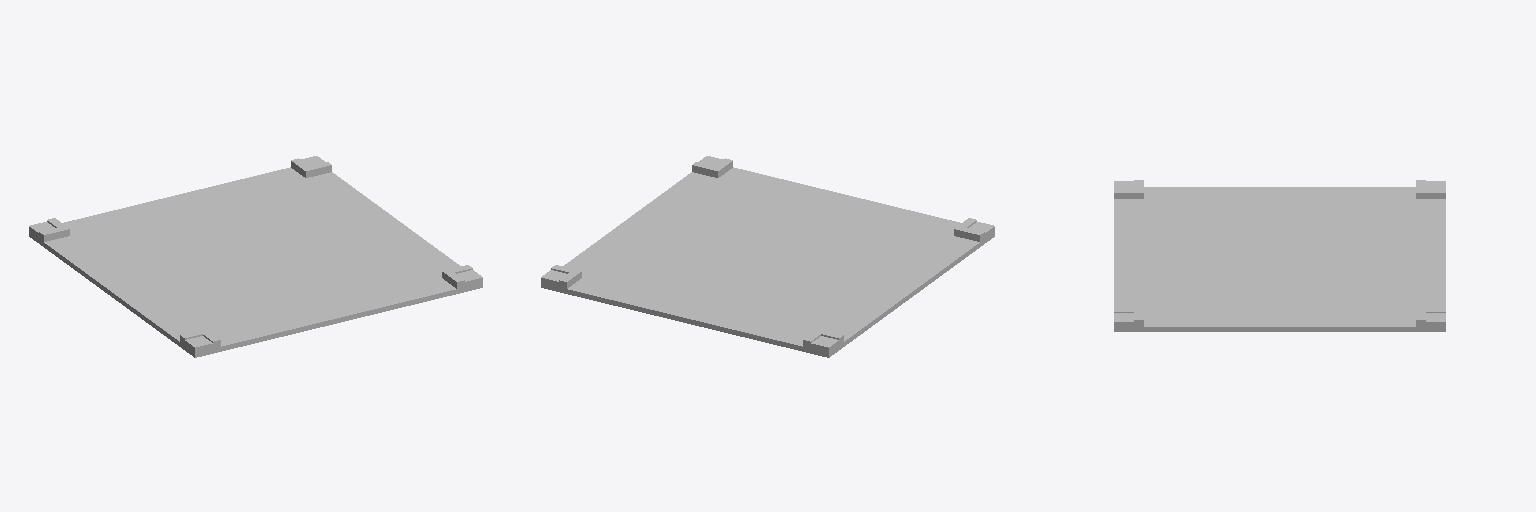
File: Road2_X.obj
The picture shows the model from 3 angles: view 1: azimuth 30°, elevation 25°; view 2: azimuth 150°, elevation 25°; view 3: azimuth 270°, elevation 25°; orthographic projection.
Visible parts, largest first — view 1: Road2_X_Road2Material; view 2: Road2_X_Road2Material; view 3: Road2_X_Road2Material.
Boxes of the visible parts, box(x1,y1,x2,y2) form: Road2_X_Road2Material: box(29, 156, 482, 357); Road2_X_Road2Material: box(541, 156, 994, 357); Road2_X_Road2Material: box(1114, 180, 1445, 331).
Bounding box in the file's own units: 12 × 0.4753 × 12.